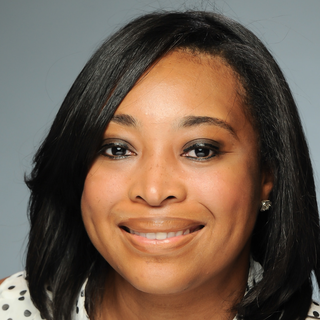eye: (168, 135, 236, 166), (91, 135, 145, 166)
